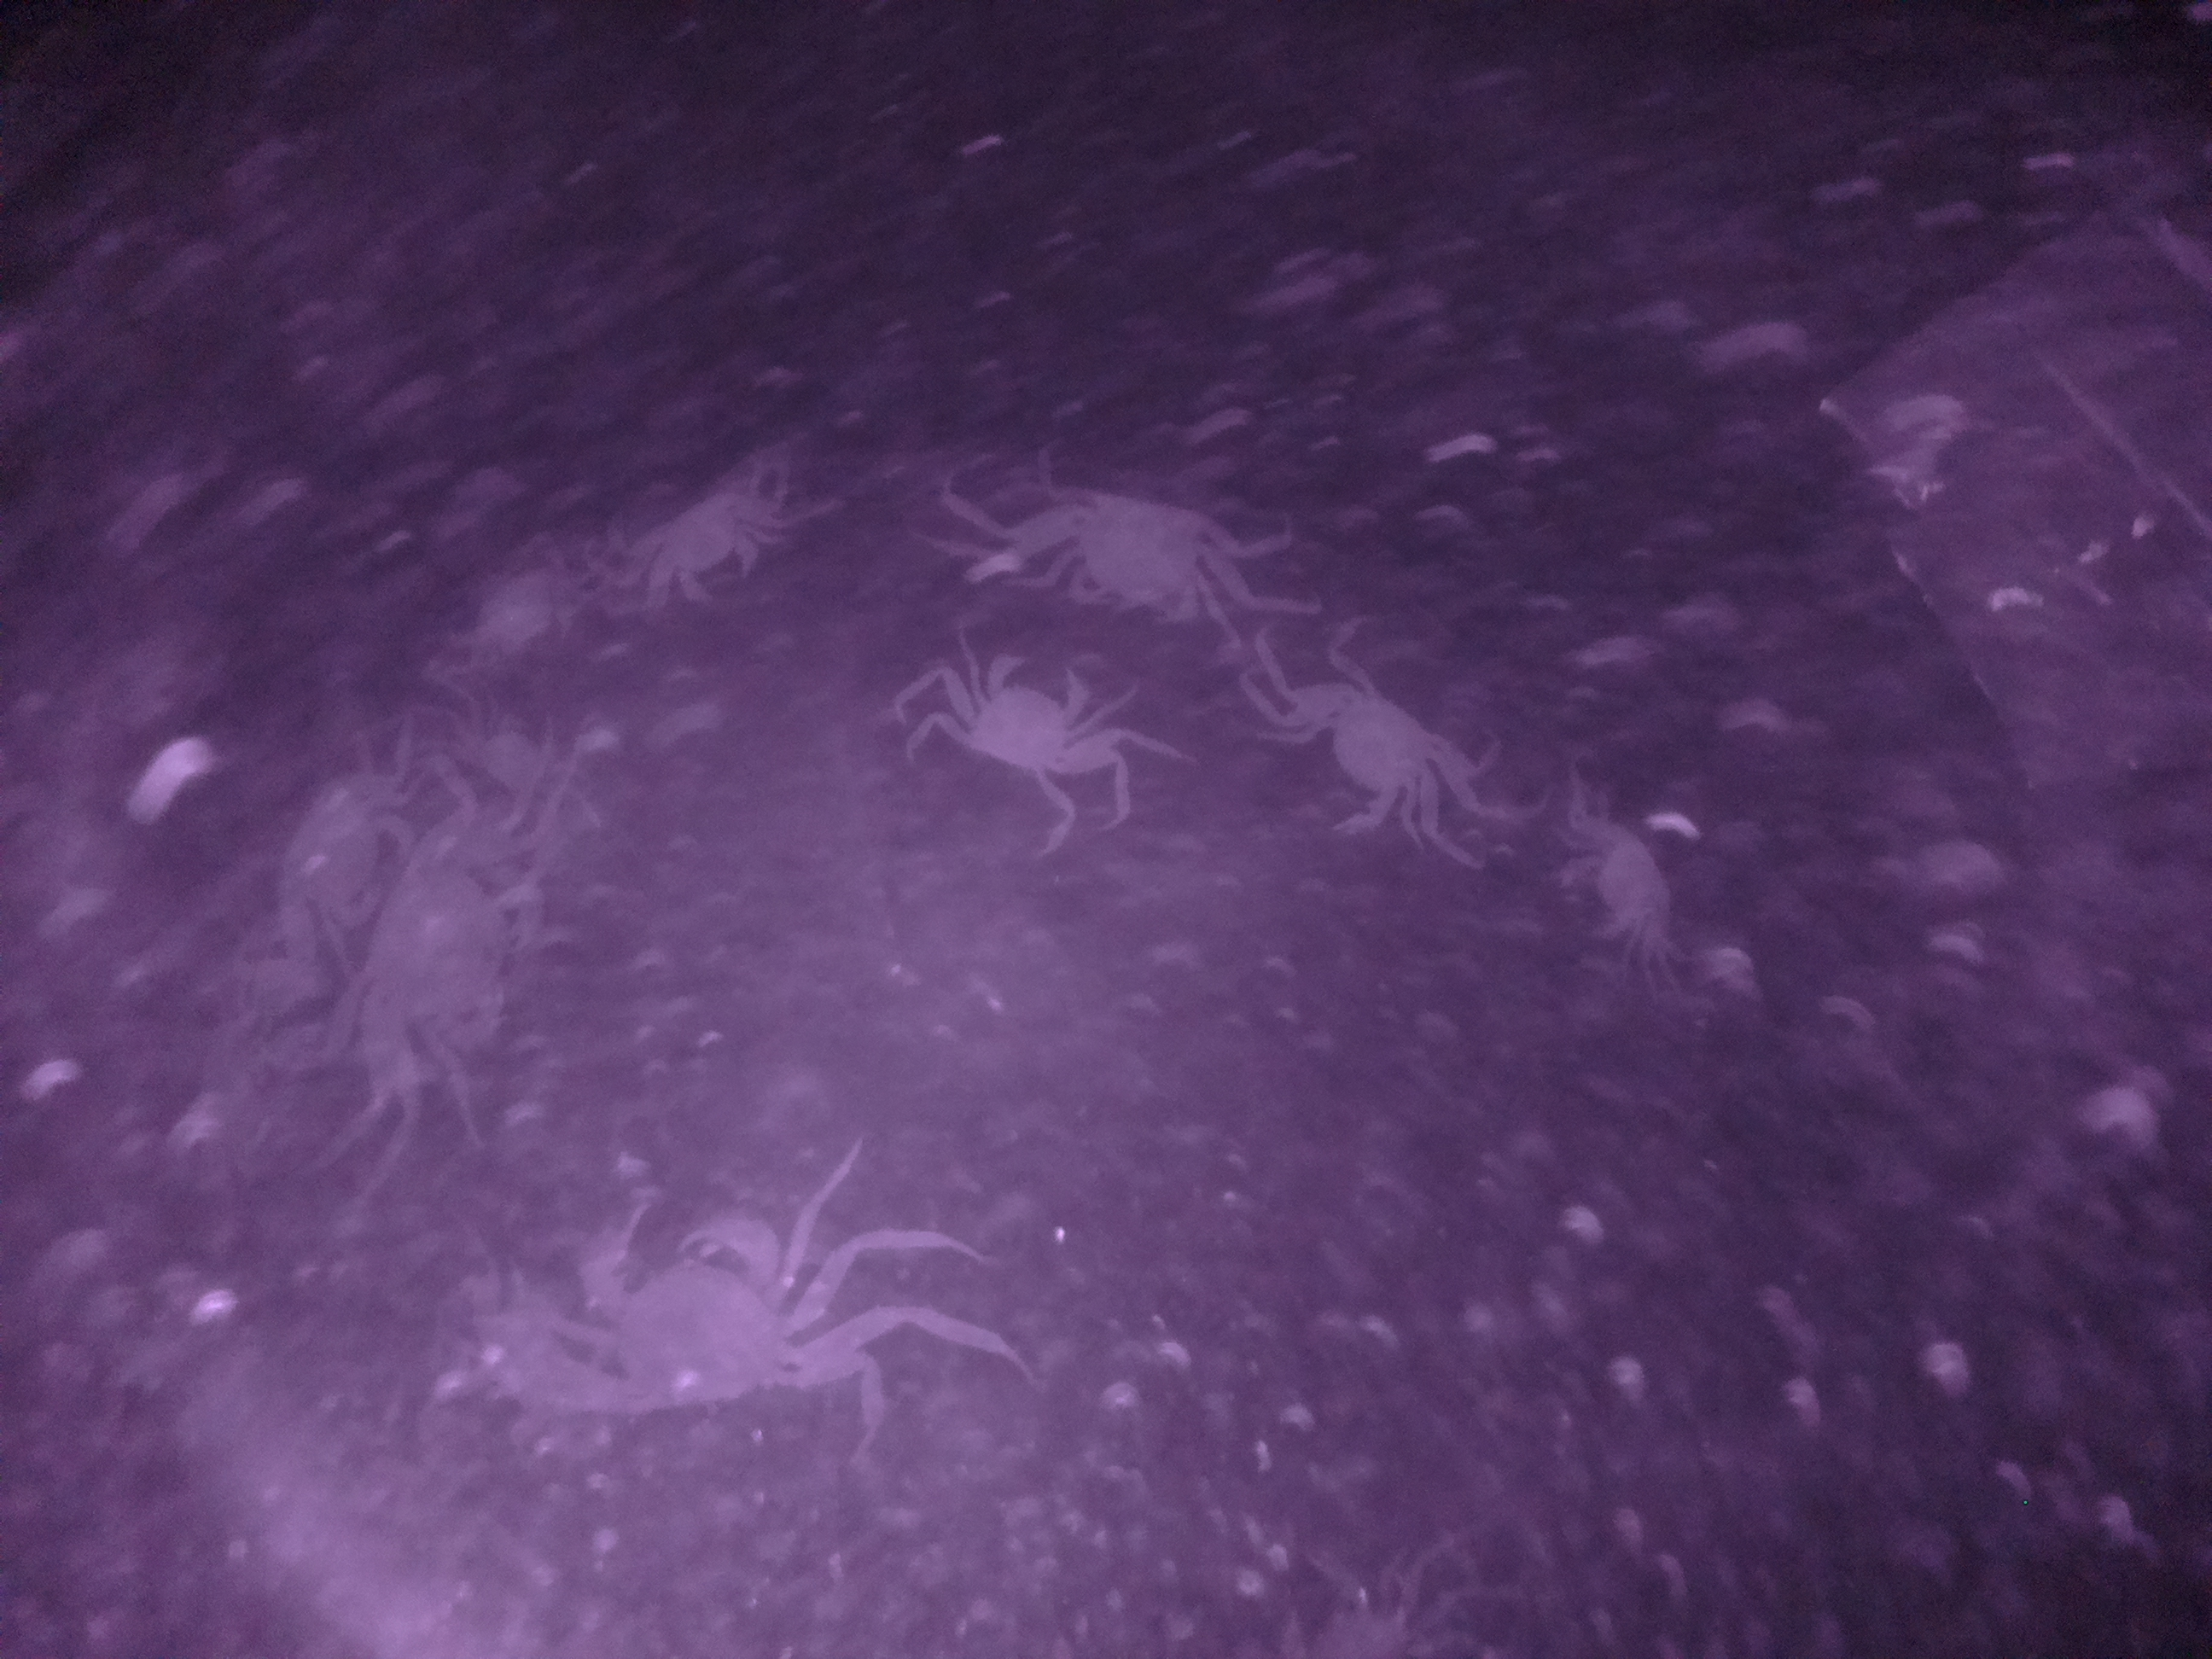Crab: (535, 1168, 834, 1446), (1271, 648, 1479, 849), (1036, 467, 1237, 647), (913, 650, 1108, 791), (627, 472, 786, 613)
